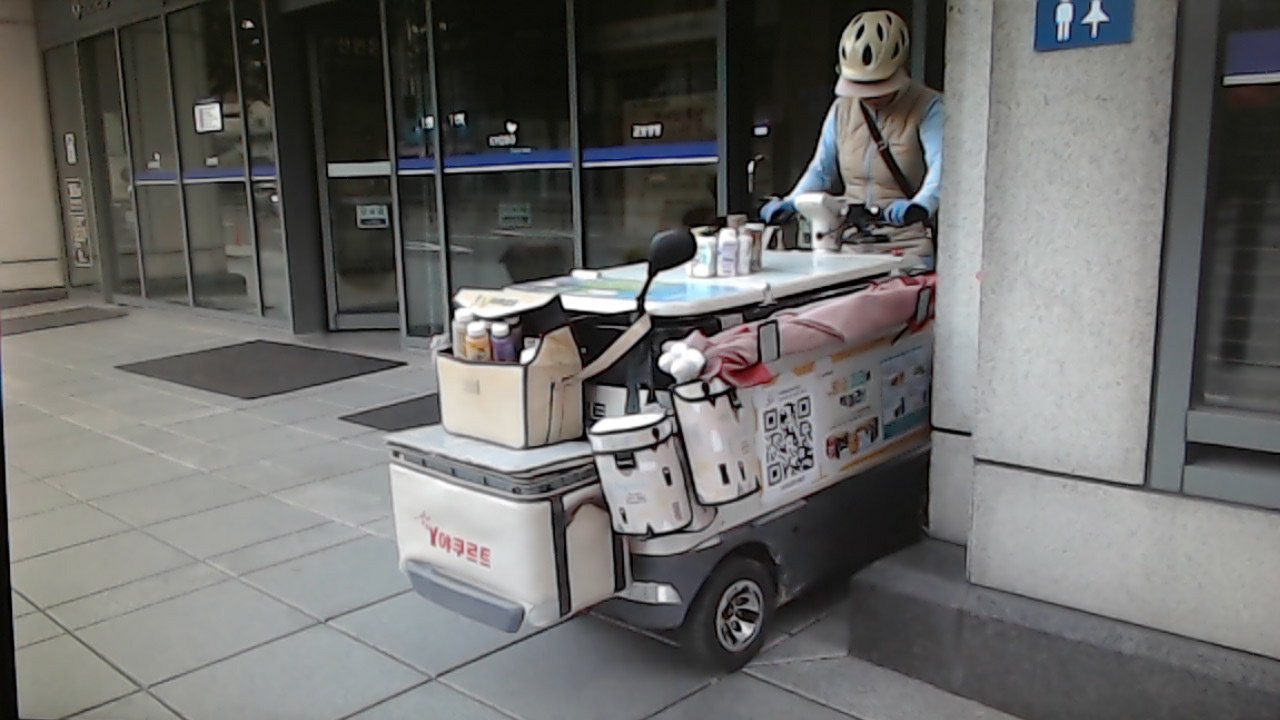Yakurut: (753, 5, 957, 305)
